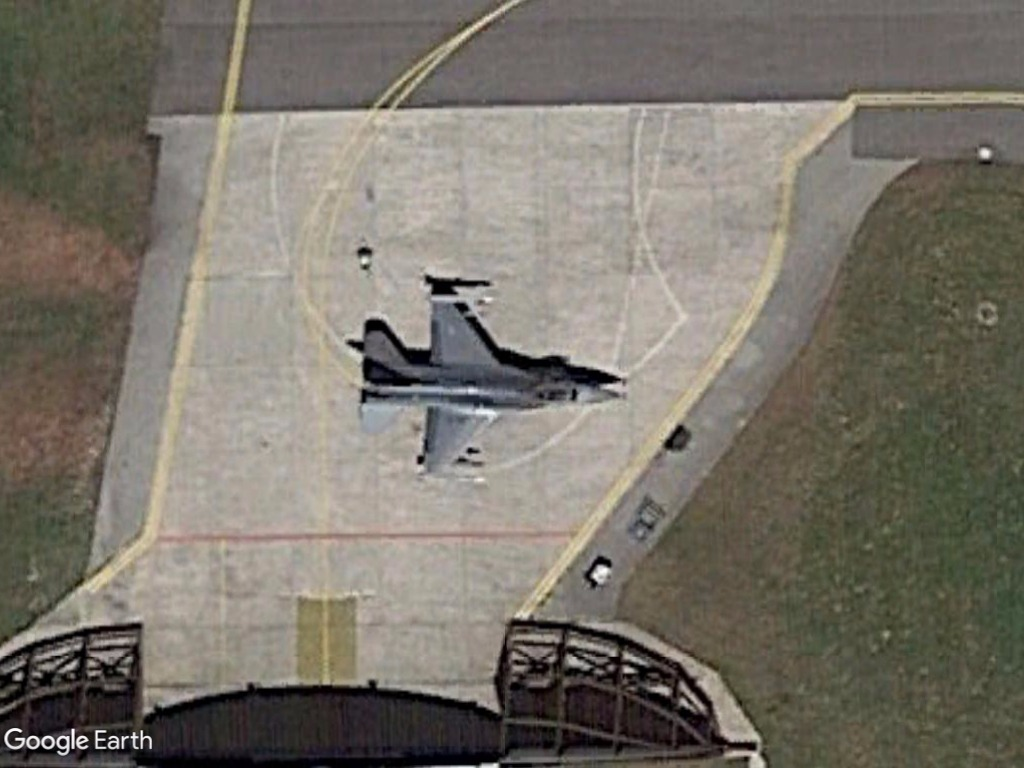fighter: (354, 280, 642, 495)
